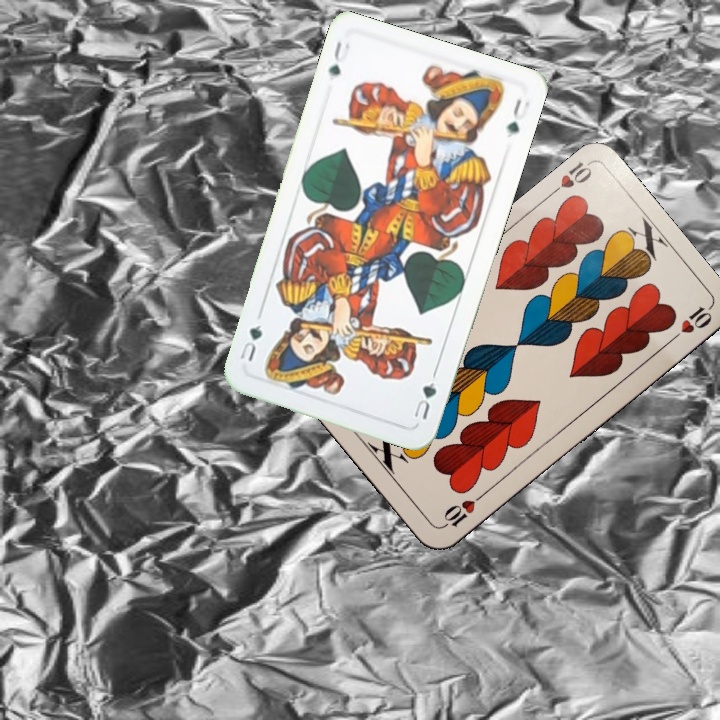GU: (408, 368, 439, 422), (324, 37, 353, 79)
H10: (543, 157, 595, 201), (439, 488, 488, 531)
